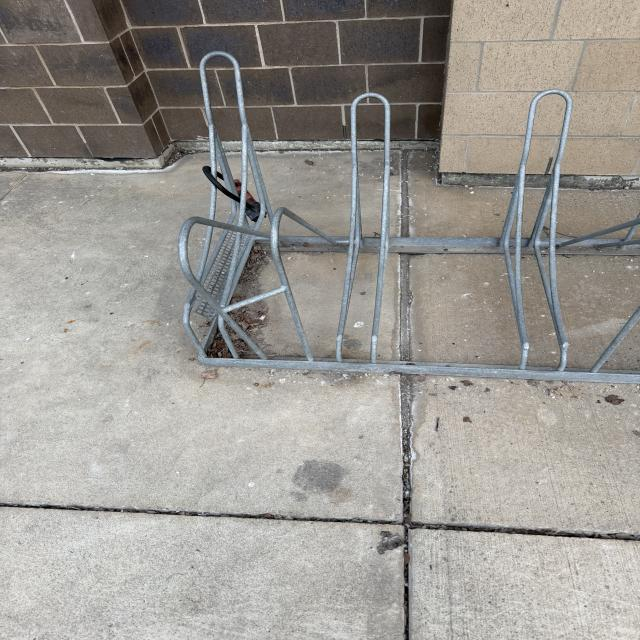Bicycle Rack: (168, 50, 640, 383)
